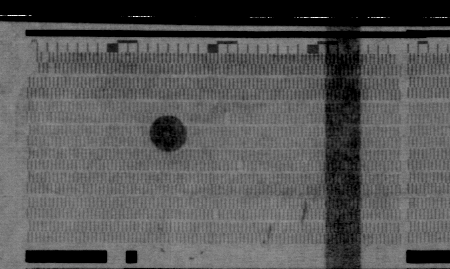Broken hole: (28, 51, 42, 76), (45, 61, 59, 75), (210, 208, 222, 222), (393, 52, 404, 67), (234, 159, 246, 172), (221, 111, 232, 125), (40, 51, 51, 63)
